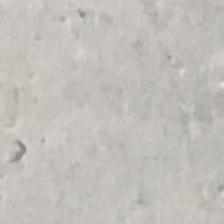Non_Crack: (67, 40, 223, 224)
